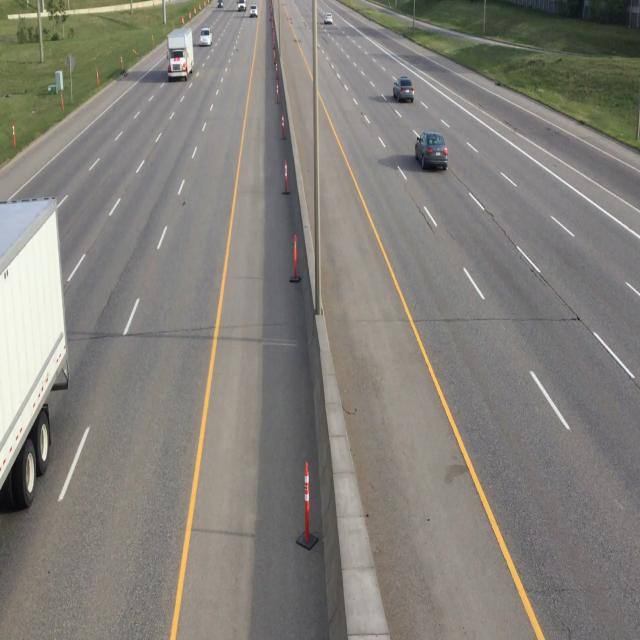Car: (413, 130, 450, 171), (166, 27, 195, 79), (392, 75, 416, 105), (199, 26, 213, 49)
